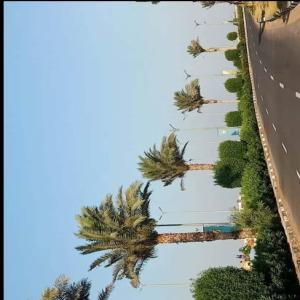palm tree: (136, 130, 217, 191)
